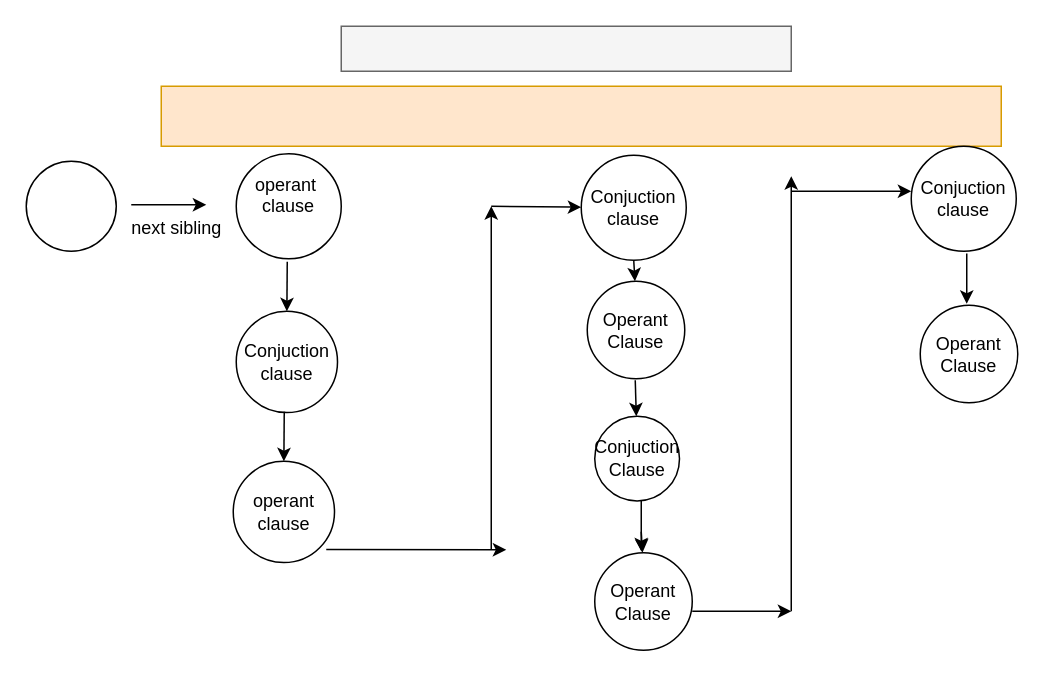
This 1044x677 diagram has some shape labels left out. Each missing label, with the centre of its shape:
"(age<30 | age>45) & permissionType=yearly & monthOfDay=1 & companyName=trendyol" belongs at (580,115).
"combined clause" belongs at (70,205).
"RULE_NAME=DESERVE_PERMISSION_RULE_2" belongs at (565,48).
